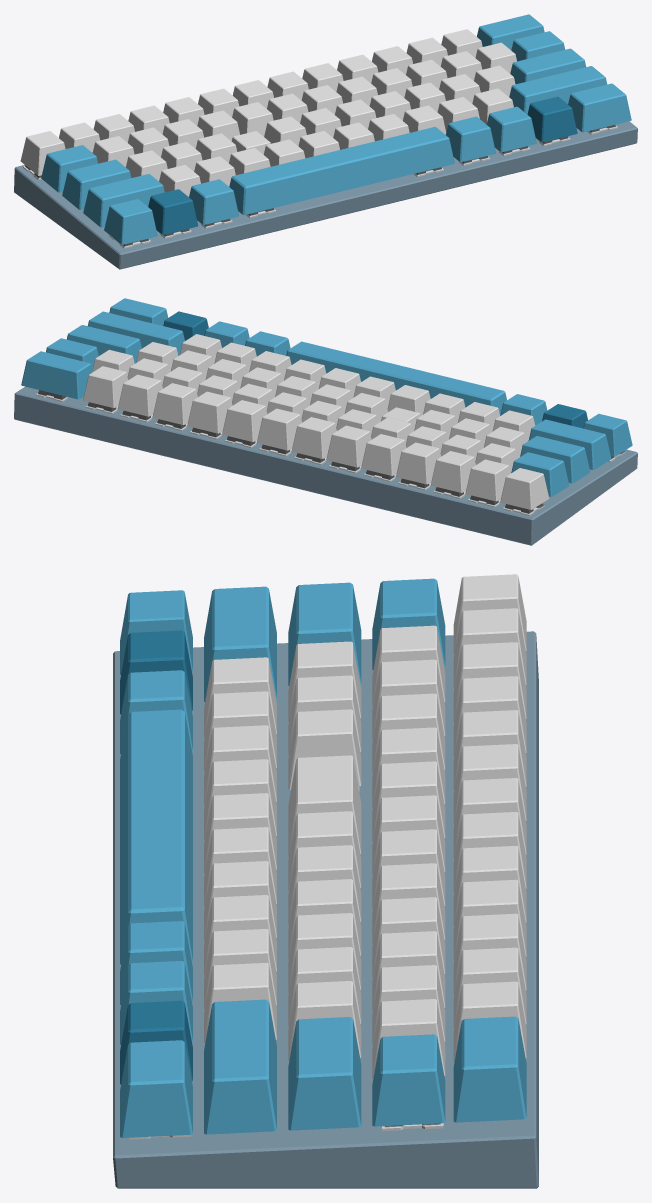
The model's file is keyboard.glb.
3 renders of one model, top to bottom at view 1: azimuth 30°, elevation 25°; view 2: azimuth 150°, elevation 25°; view 3: azimuth 270°, elevation 25°, orthographic. The views are drawn at different scales.
Parts seen in each view (by area): view 1: BASE_TECLADO, SPACE_KEY, CTRL2_KEY, SHIFT_2_KEY, SHIFT_1_KEY, CTRL_KEY, MAY_KEY, ALTGR_KEY, MENU_KEY, HOME2_KEY, ALT_KEY, HOME_KEY (+50 smaller); view 2: BASE_TECLADO, SPACE_KEY, DEL_KEY, SHIFT_2_KEY, SHIFT_1_KEY, FILA1_PART1, MAY_KEY, GUION_ONDA_KEY, ENTER_KEY, 5_KEY, GUION_KEY, 3_KEY (+52 smaller); view 3: BASE_TECLADO, SPACE_KEY, SHIFT_2_KEY, ENTER_KEY, DEL_KEY, CTRL2_KEY, BACKSLASH_KEY, SHIFT_1_KEY, MAY_KEY, TAB_KEY, D_KEY, CTRL_KEY (+50 smaller).
Part boxes in pixels (box(x1,y1,x2,y2)): BASE_TECLADO: box(14, 121, 637, 269); SPACE_KEY: box(229, 127, 454, 214); CTRL2_KEY: box(568, 83, 631, 132); SHIFT_2_KEY: box(509, 66, 607, 114); SHIFT_1_KEY: box(83, 174, 164, 227); CTRL_KEY: box(104, 199, 157, 244); MAY_KEY: box(62, 159, 131, 209); ALTGR_KEY: box(446, 116, 495, 162); MENU_KEY: box(527, 96, 577, 142); HOME2_KEY: box(486, 106, 536, 152); ALT_KEY: box(189, 179, 238, 224); HOME_KEY: box(148, 189, 198, 234); BASE_TECLADO: box(14, 386, 637, 545); SPACE_KEY: box(286, 341, 506, 415); DEL_KEY: box(21, 351, 92, 399); SHIFT_2_KEY: box(88, 311, 184, 355); SHIFT_1_KEY: box(528, 419, 611, 469); FILA1_PART1: box(87, 402, 544, 513); MAY_KEY: box(520, 436, 590, 483); GUION_ONDA_KEY: box(500, 468, 549, 509); ENTER_KEY: box(66, 325, 141, 363); 5_KEY: box(326, 425, 371, 467); GUION_KEY: box(118, 374, 162, 416); 3_KEY: box(396, 442, 441, 484); BASE_TECLADO: box(113, 631, 538, 1188); SPACE_KEY: box(120, 709, 192, 964); SHIFT_2_KEY: box(204, 999, 276, 1134); ENTER_KEY: box(288, 1017, 361, 1130); DEL_KEY: box(453, 1016, 526, 1122); CTRL2_KEY: box(120, 1040, 192, 1137); BACKSLASH_KEY: box(372, 1034, 445, 1126); SHIFT_1_KEY: box(204, 586, 276, 701); MAY_KEY: box(288, 582, 361, 685); TAB_KEY: box(372, 578, 445, 669); D_KEY: box(288, 709, 361, 789); CTRL_KEY: box(120, 590, 192, 674).
Size of the model in its own units: 0.6359 by 0.0685 by 0.2262.
